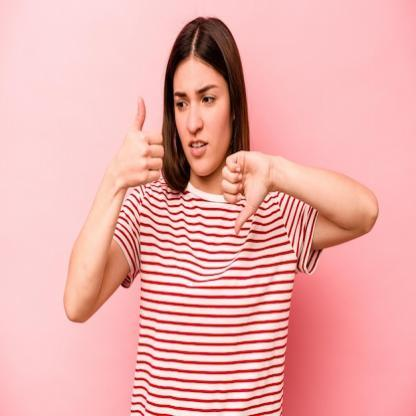thumb_down: (220, 143, 272, 237)
thumb_up: (113, 93, 166, 192)
